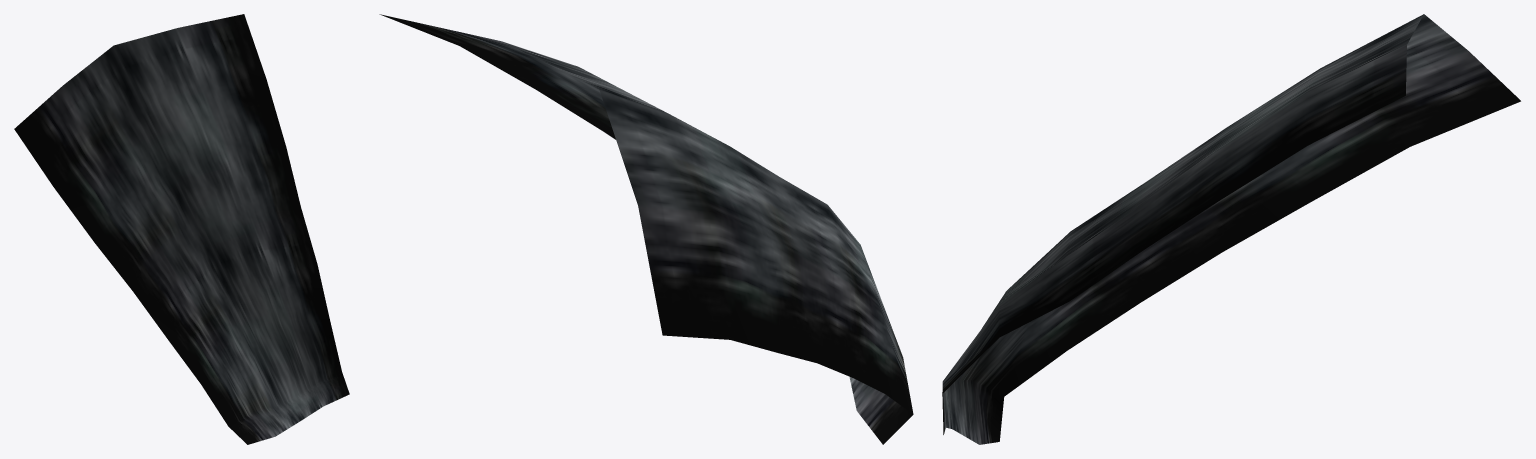
File: water30.obj
The picture shows the model from 3 angles, left to right: view 1: azimuth 30°, elevation 25°; view 2: azimuth 150°, elevation 25°; view 3: azimuth 270°, elevation 25°; orthographic projection. The views are drawn at different scales.
Parts seen in each view (by area): view 1: water30; view 2: water30; view 3: water30.
Boxes of the visible parts, bbox=[...] form: water30: bbox=[14, 14, 349, 444]; water30: bbox=[379, 14, 913, 444]; water30: bbox=[942, 14, 1520, 444].
Bounding box in the file's own units: 192 × 289 × 340.
